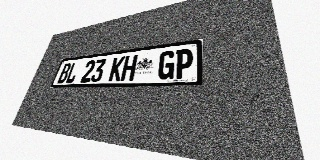2: (80, 60, 96, 83)
3: (90, 58, 107, 82)
B: (57, 63, 72, 83)
G: (157, 50, 176, 80)
H: (120, 55, 138, 81)
K: (108, 56, 125, 81)
L: (65, 62, 80, 83)
P: (174, 48, 193, 79)
